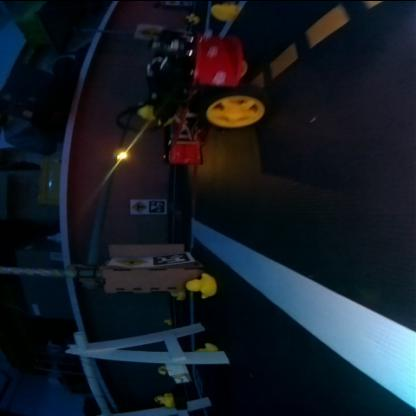Duckie: (184, 272, 216, 296), (212, 1, 236, 19), (154, 392, 174, 406), (192, 342, 216, 350), (172, 290, 182, 296), (164, 318, 170, 322)
Duckiebot: (146, 30, 264, 164)
Intersection sign: (115, 256, 144, 264), (131, 200, 145, 212)
QR code: (153, 251, 187, 264), (148, 199, 164, 211)
Traffic light: (115, 148, 127, 160)
